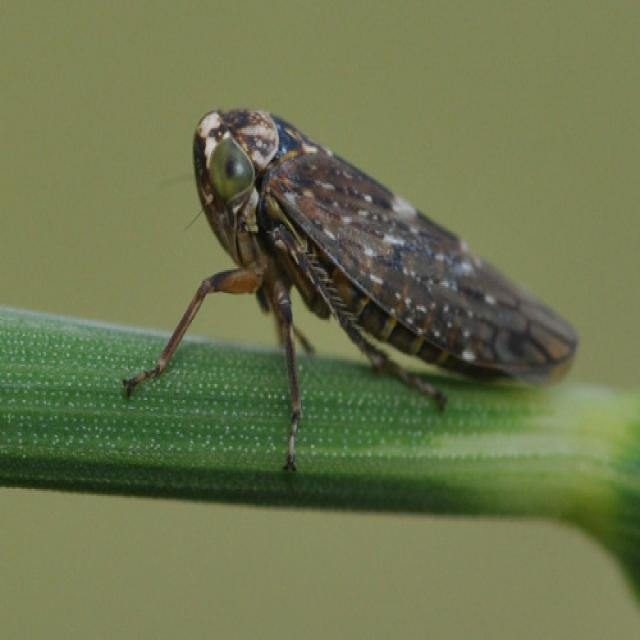Yechan: (145, 87, 605, 416)
